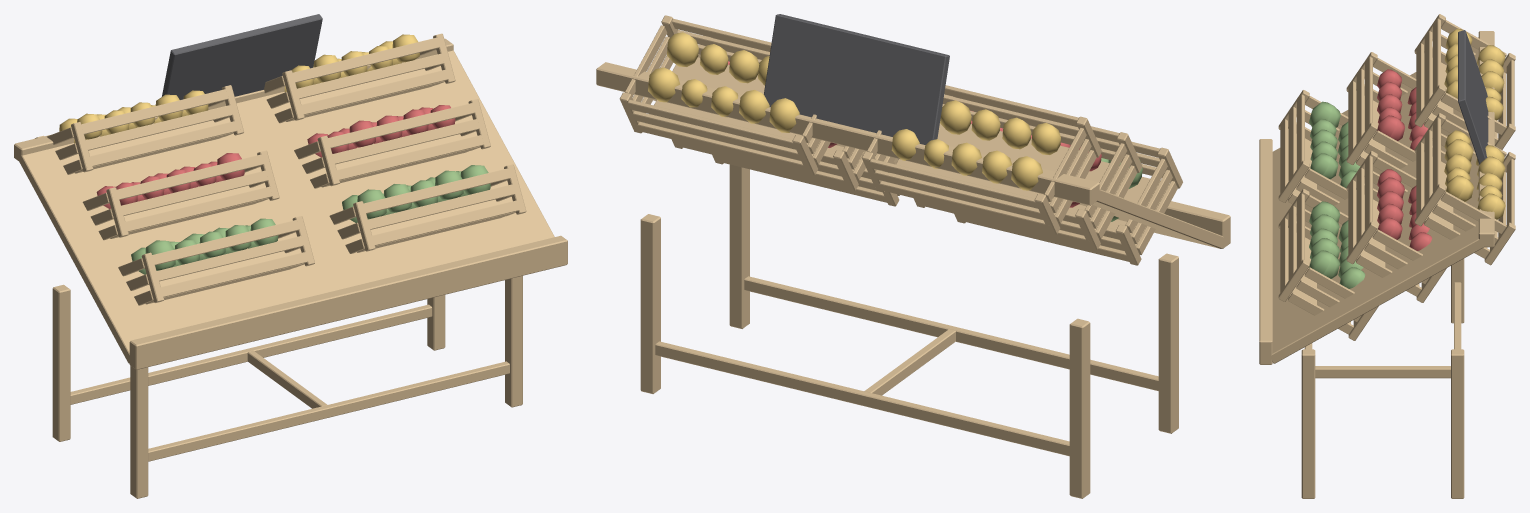
The picture shows the model from 3 angles, left to right: view 1: azimuth 30°, elevation 25°; view 2: azimuth 150°, elevation 25°; view 3: azimuth 270°, elevation 25°; orthographic projection. The views are drawn at different scales.
Visible parts, largest first — view 1: produce-display-slope; view 2: produce-display-slope; view 3: produce-display-slope.
Boxes of the visible parts, x1,y1,x2,y2 form: produce-display-slope: (14, 14, 567, 498); produce-display-slope: (596, 14, 1230, 498); produce-display-slope: (1259, 14, 1515, 498).
Size of the model in its own units: 1.8 by 1.43 by 0.9634.
